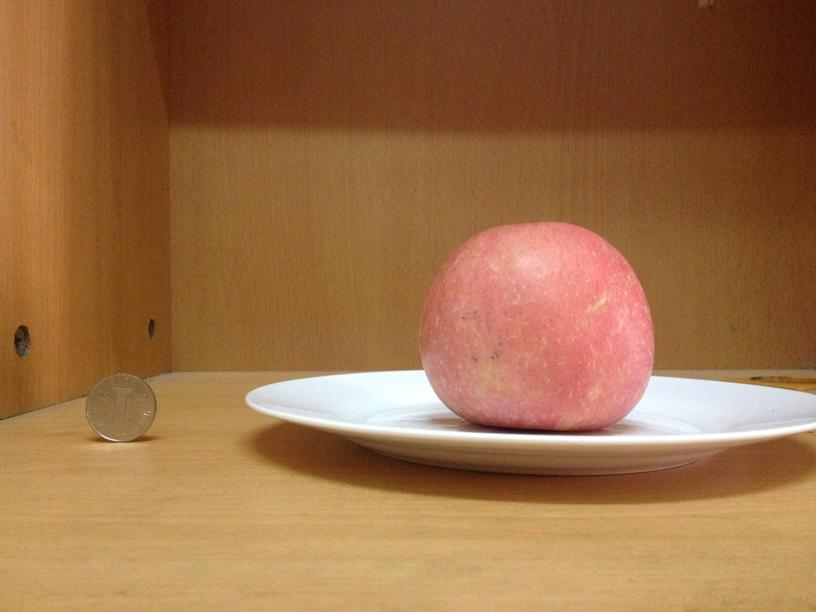apple: (418, 222, 658, 428)
coin: (81, 369, 154, 442)
